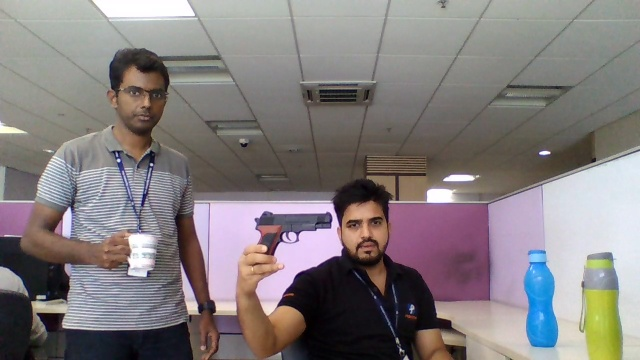gun: (253, 209, 335, 244)
